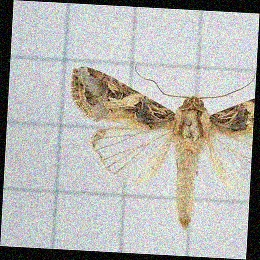Spodoptera litura: (66, 65, 252, 231)
